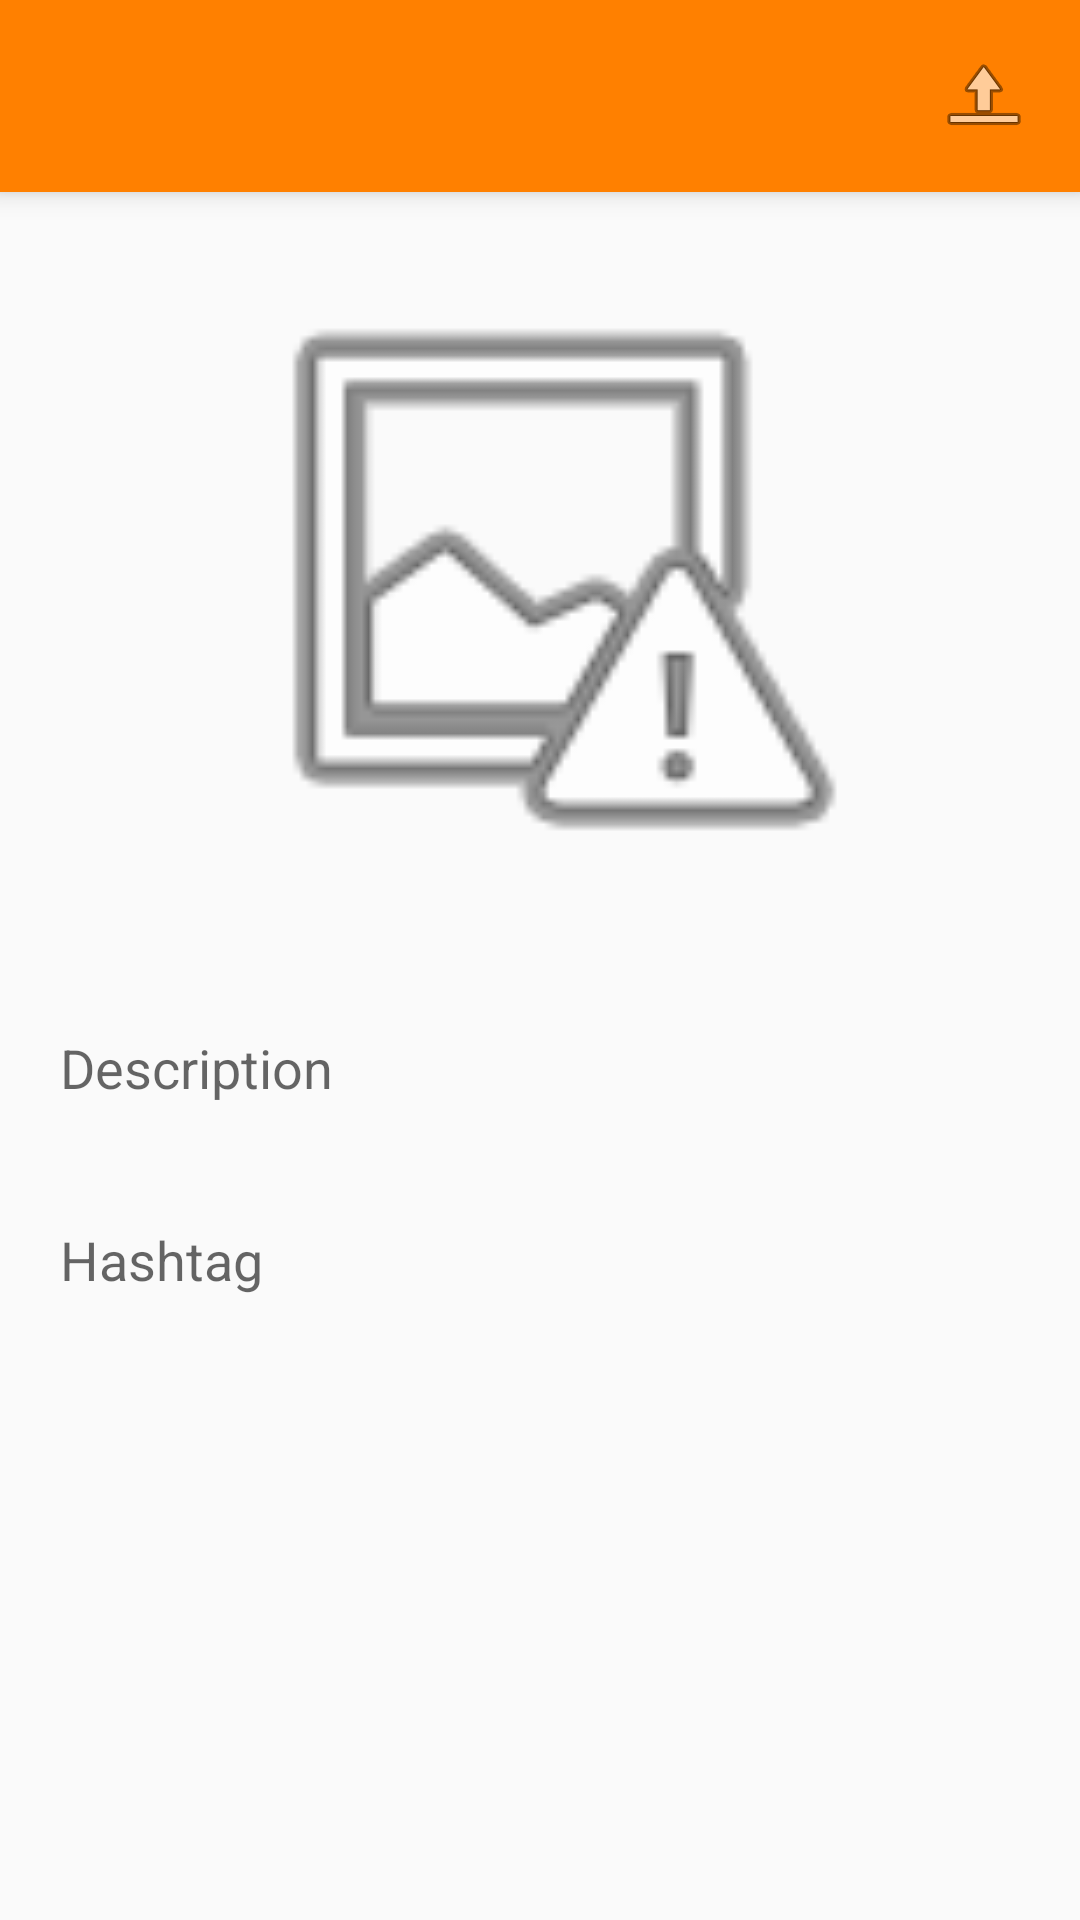

Icon bounding boxes for this 1080px×1920px phone screenshot, format (x1, y1, x2, y2):
upload: (947, 64, 1021, 125)
